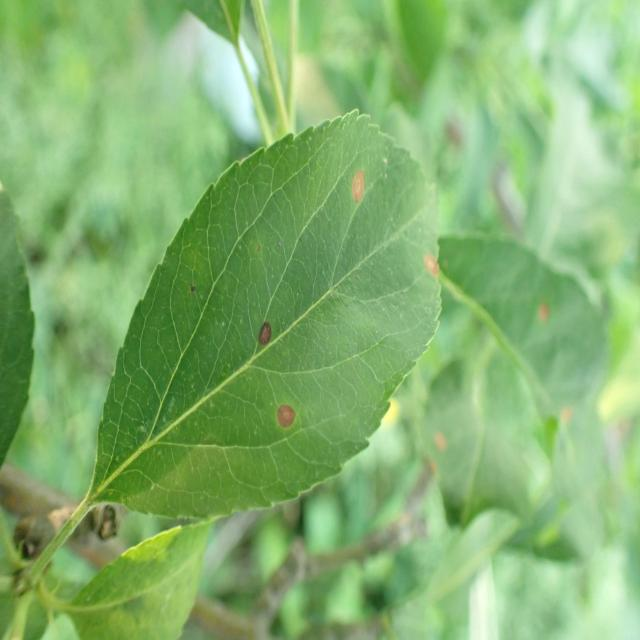Black Rot: (345, 145, 371, 222), (274, 395, 306, 445), (253, 308, 277, 360), (412, 248, 446, 283)
